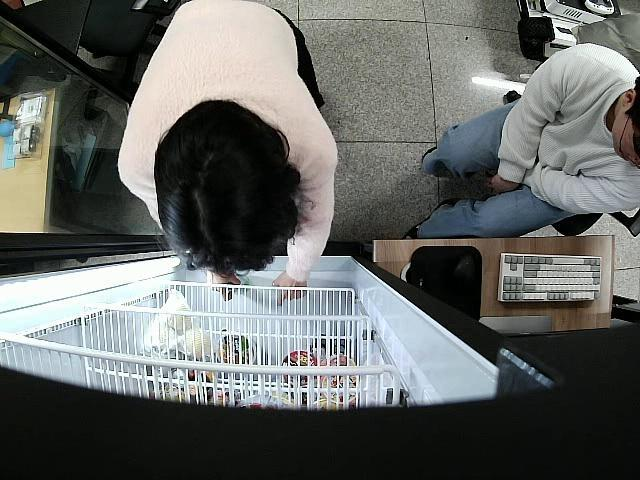18_trevi: (230, 273, 253, 295)
